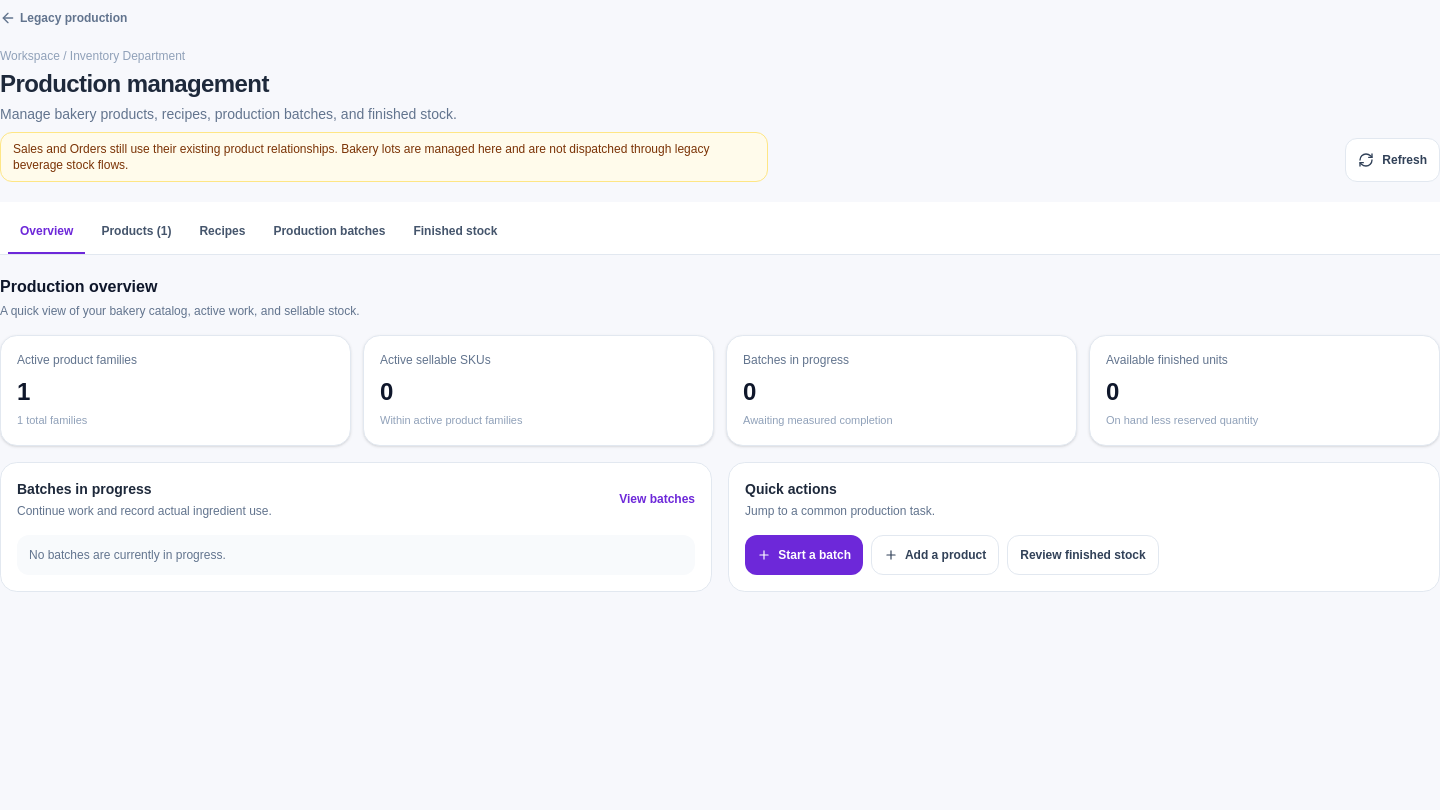
Test: bakery product profile image › removes an unattached Cloudinary upload when saving the image metadata fails
Later steps or results of the test are not shown.
Click the tab "Products (1)".
click(136, 232)  # box [89, 210, 183, 254]
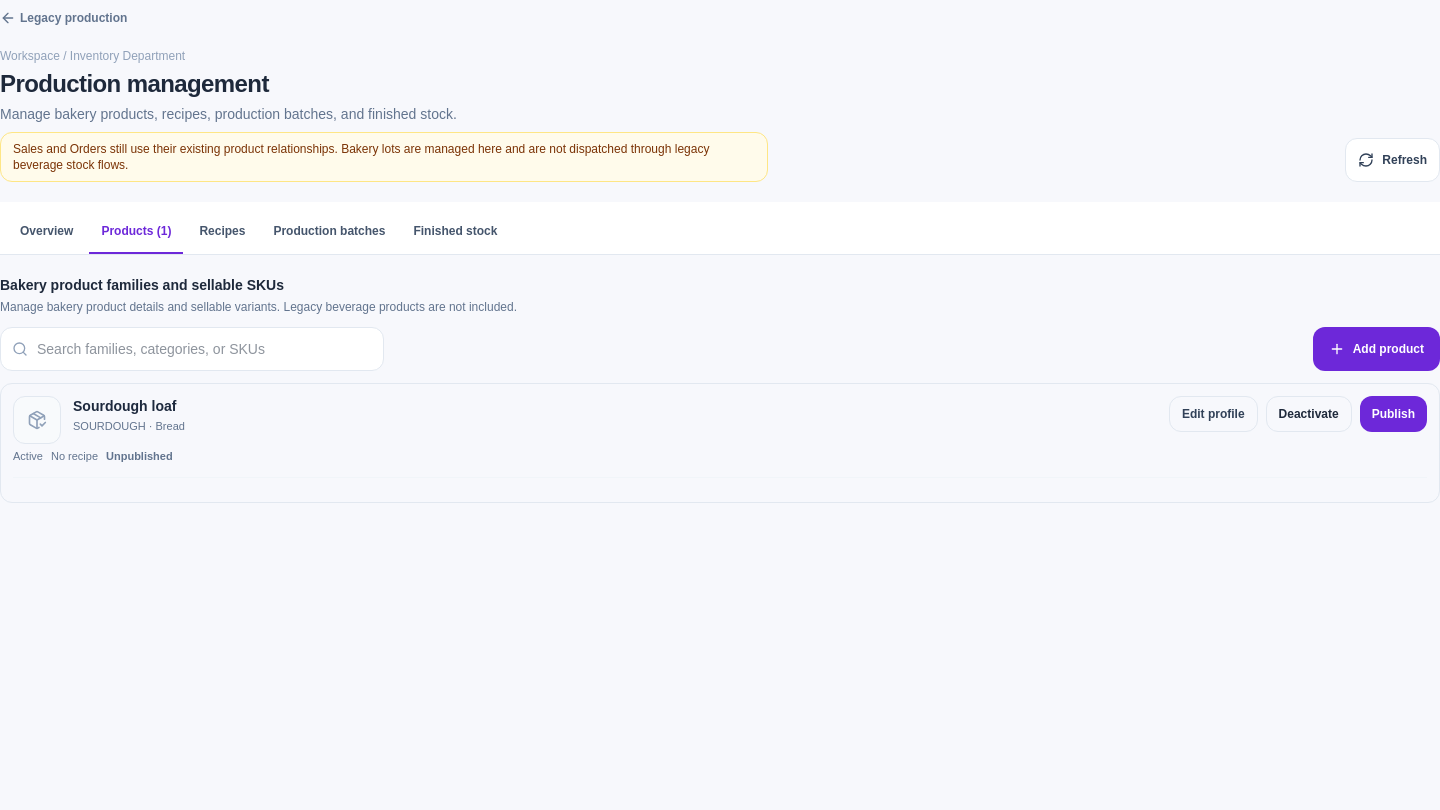
Click the button "Edit profile".
click(1213, 414)  # box [1169, 396, 1258, 432]
(page scrolled)
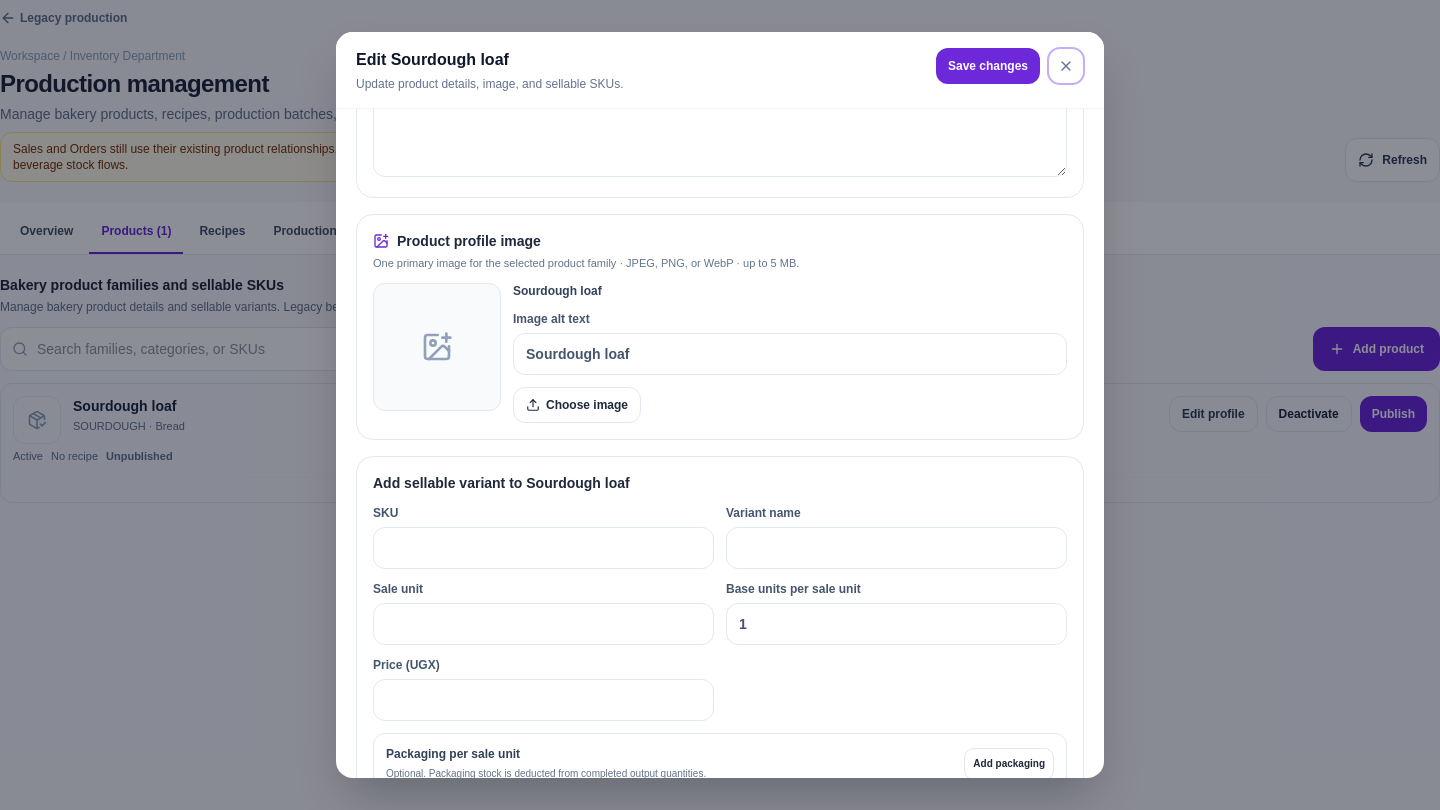
Now the dialog "Edit" is shown, box [336, 32, 1104, 778]
Now the button "Choose image" is shown, box [513, 387, 641, 423]
